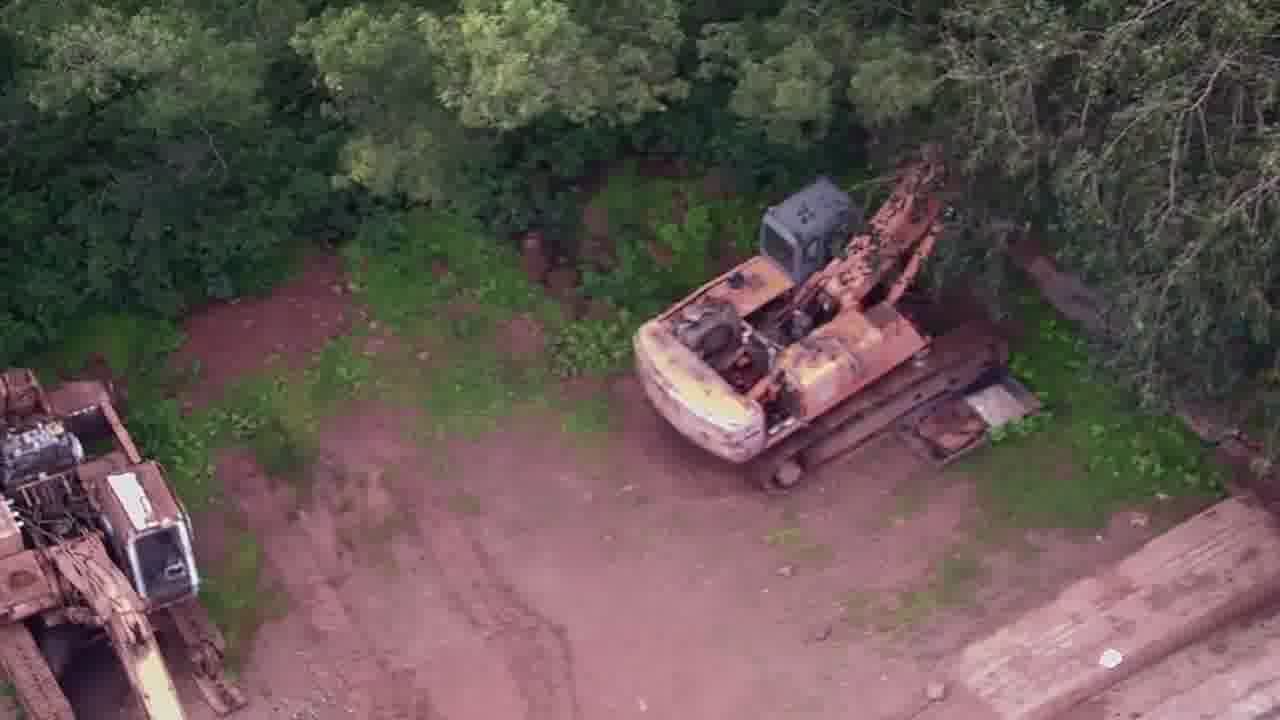HMV: (620, 123, 1016, 489), (1, 337, 211, 718)
